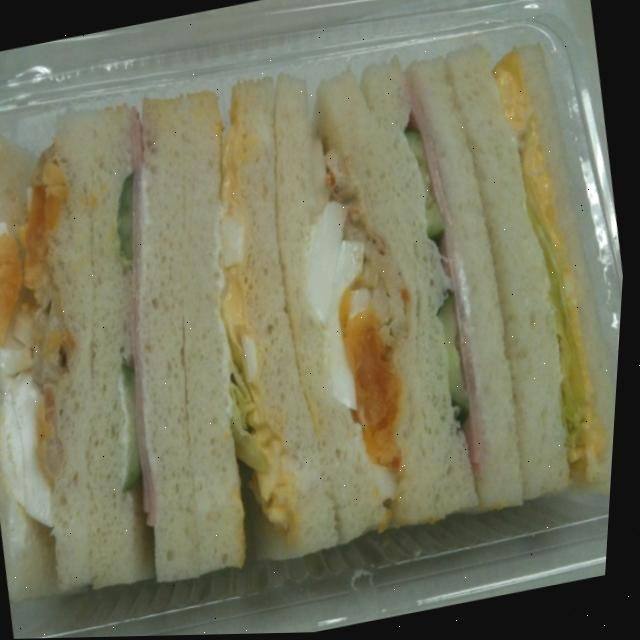三明治: (0, 3, 639, 635)
